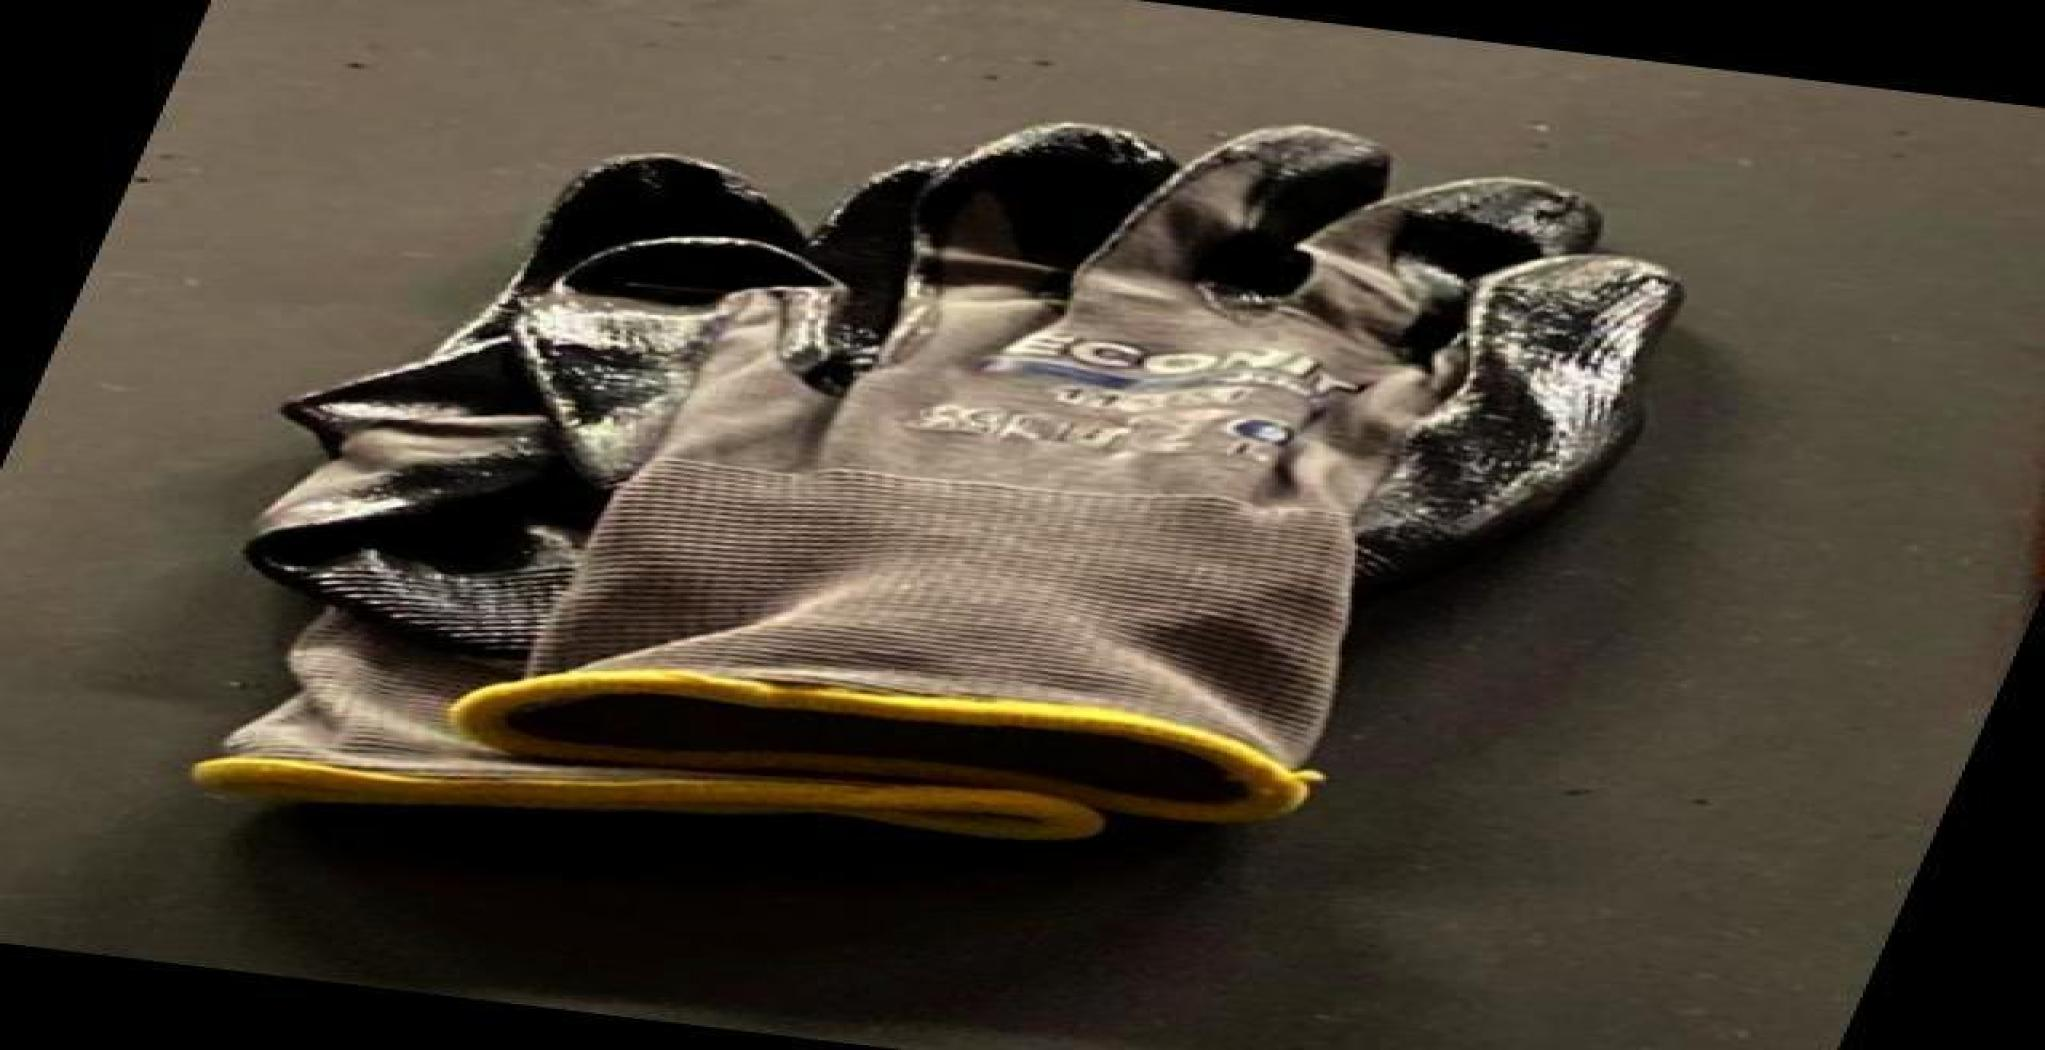gloved: (383, 137, 1698, 816)
